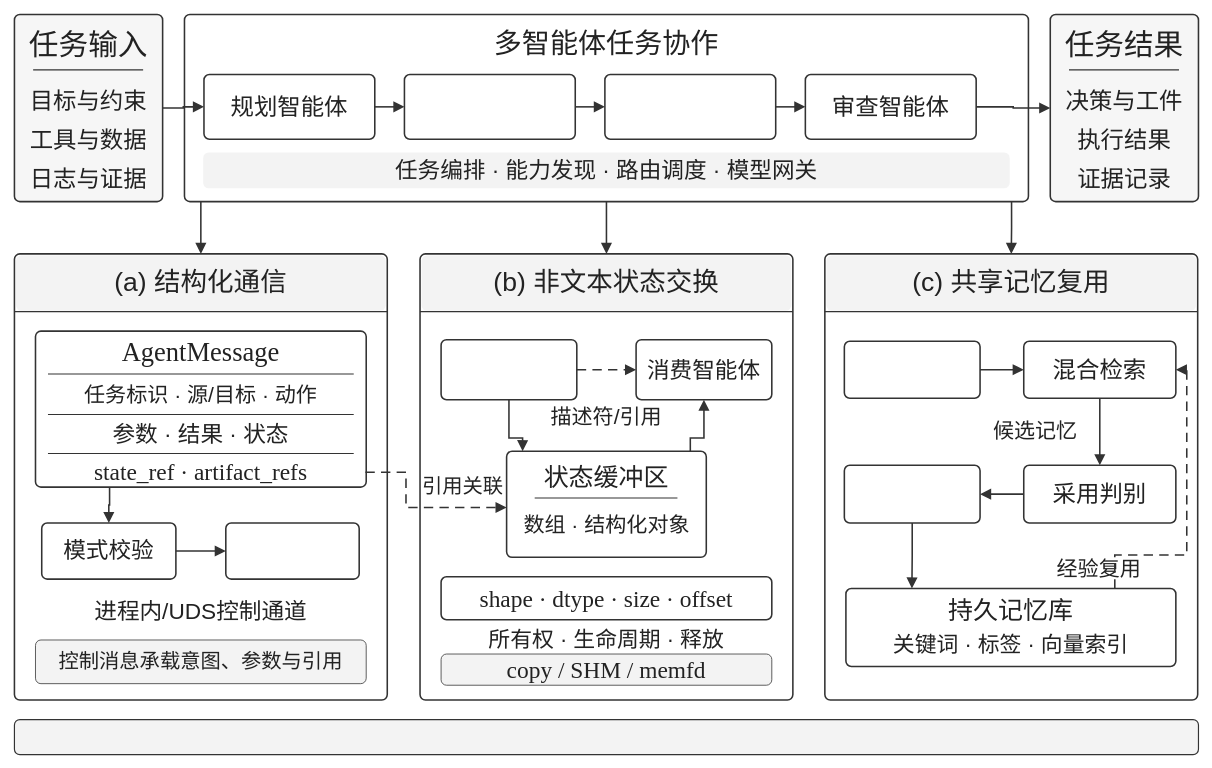
Image size: 1212x768. Some labels were removed from this diagram. Here are the shapes that lost their labels. From the top down, the box of each, then its label:
(403, 73, 576, 140): 检索智能体
(604, 73, 776, 140): 执行智能体
(440, 339, 577, 400): 生产智能体
(843, 340, 980, 399): 查询
(843, 464, 980, 523): 结果反馈
(225, 522, 360, 580): 路由传递
(13, 719, 1199, 755): 运行支撑：Linux/openEuler · 工件存储 · 工具执行 · 检查点恢复
